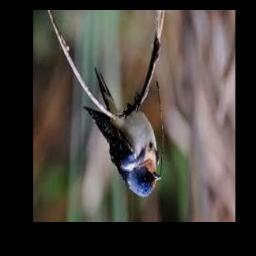Swallow: (83, 68, 162, 196)
